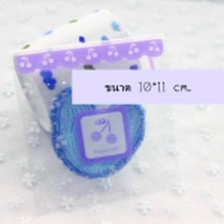snack: (7, 27, 188, 221)
